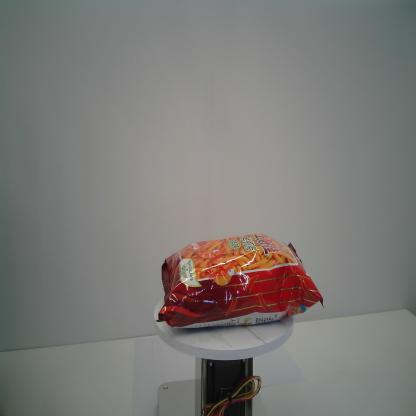Puffed Food: (157, 232, 325, 329)
